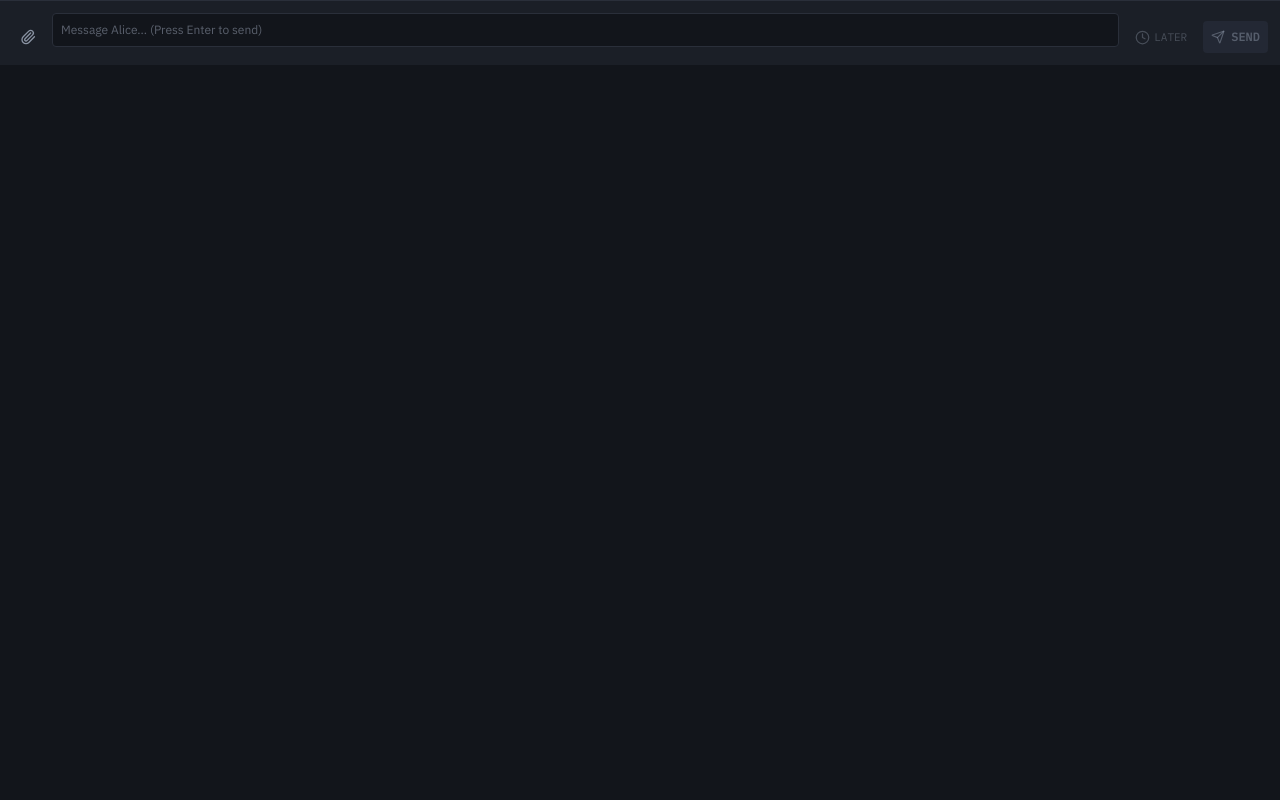
Test: SendConfirmModal keyboard flow › does not carry a previous opening's scheduling into the next send
Type "later" into the text box with placeholder "Message Alice... (Press Enter to send)" at (586, 30), box x1=52 y1=13 x2=1119 y2=47
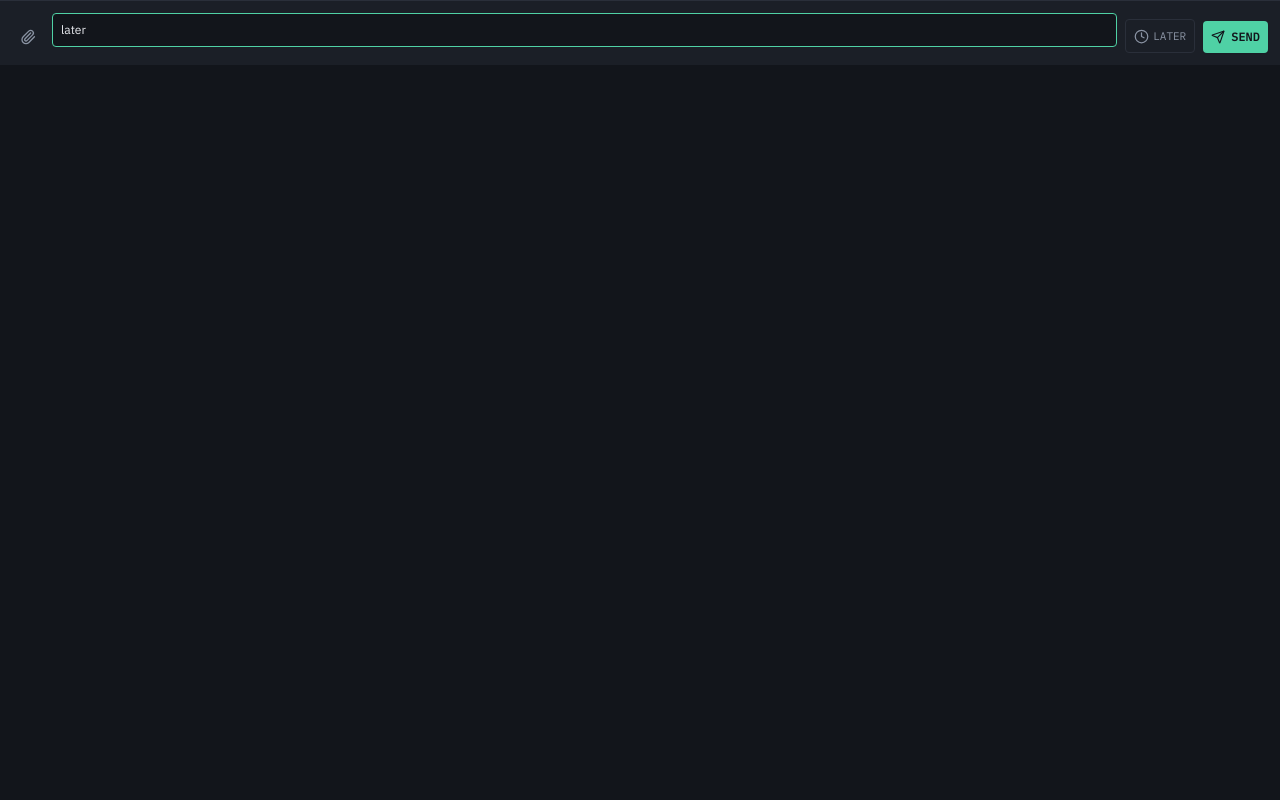
Click the button "LATER" at (1160, 36), box x1=1125 y1=19 x2=1195 y2=53
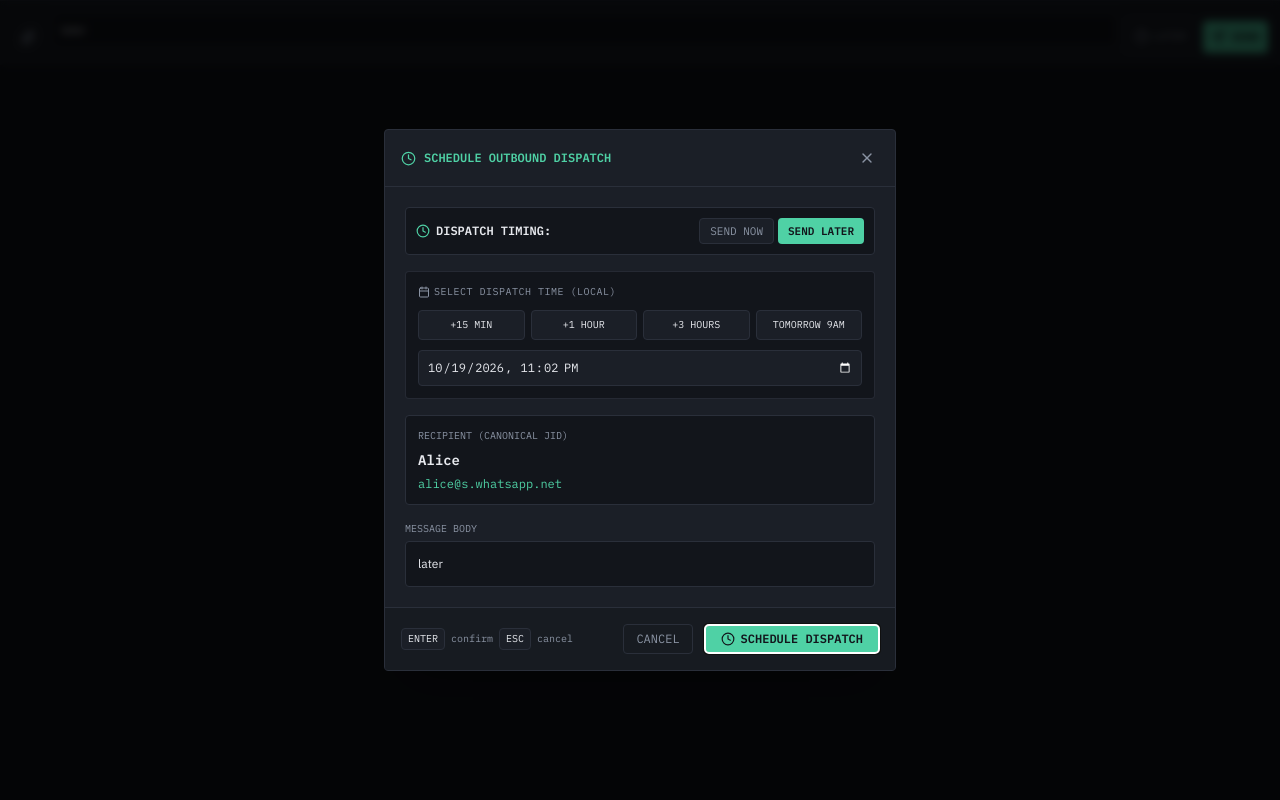
Expected: the dialog is shown, x1=384 y1=129 x2=896 y2=671
Press Escape
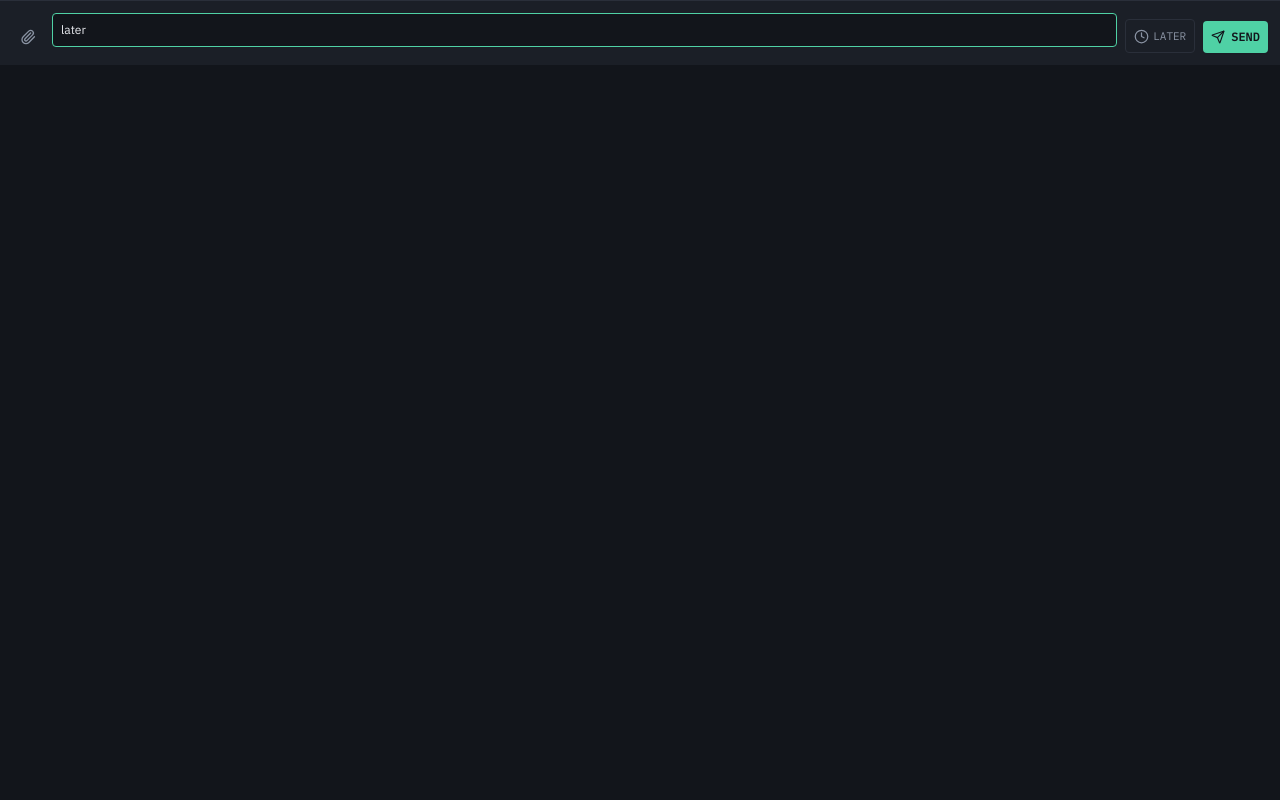
Expected: the dialog is gone
Press Enter
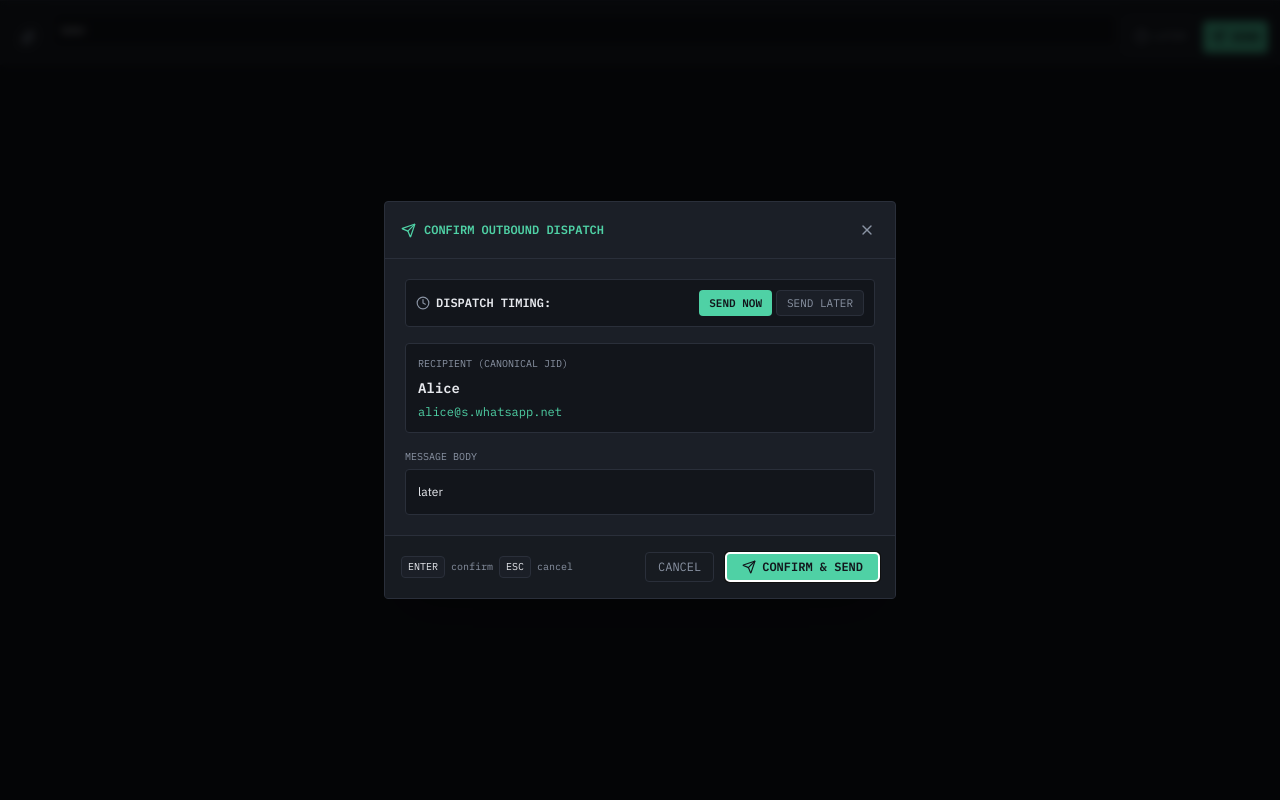
Expected: the text labelled "DISPATCH TIME" is not shown
Expected: the heading reads "CONFIRM OUTBOUND DISPATCH", x1=424 y1=222 x2=604 y2=237
